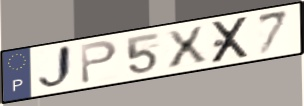5: (124, 30, 162, 76)
7: (257, 7, 290, 58)
J: (36, 43, 76, 93)
P: (78, 38, 120, 86)
X: (209, 14, 252, 66), (163, 24, 210, 70)
